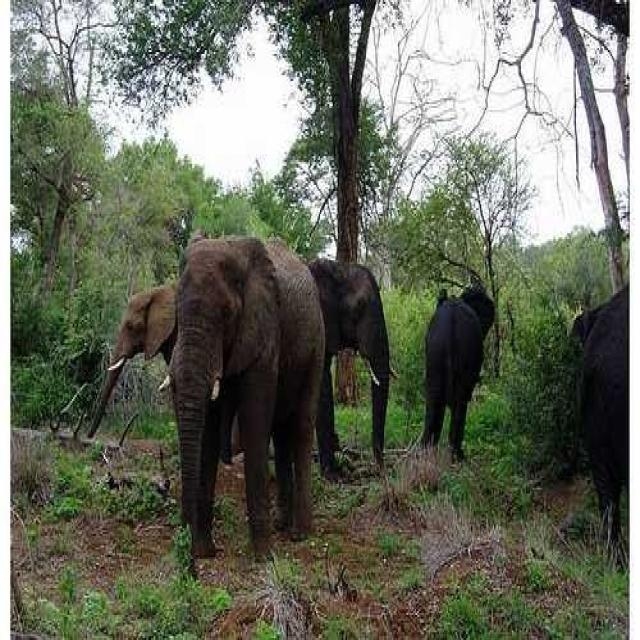Elephant: (162, 231, 326, 559), (306, 256, 398, 474), (568, 279, 628, 565), (420, 283, 494, 463)
